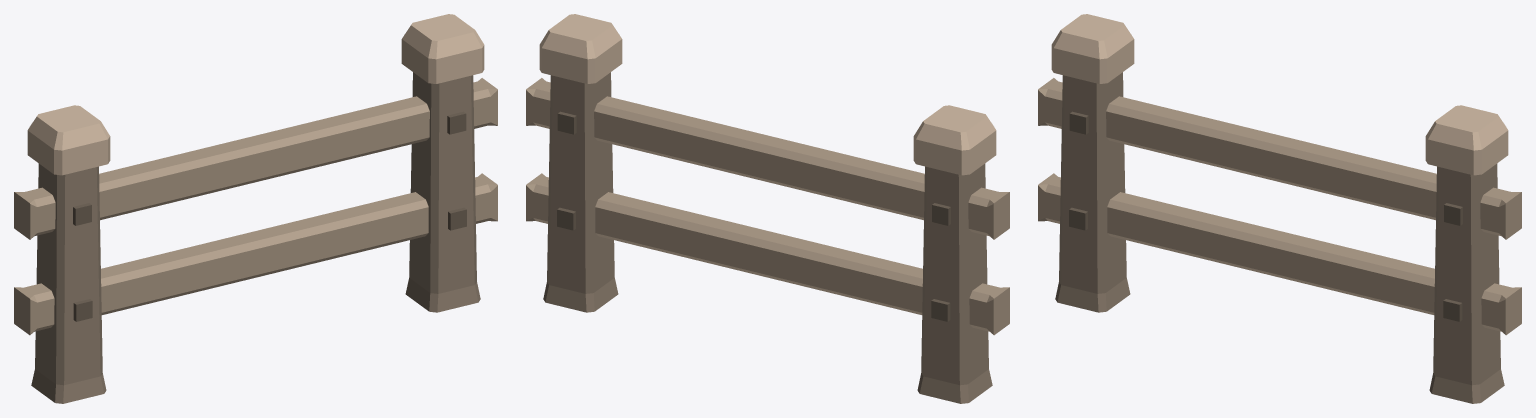
File: wooden-fence-section-5f04b7.glb
The picture shows the model from 3 angles, left to right: view 1: azimuth 30°, elevation 25°; view 2: azimuth 150°, elevation 25°; view 3: azimuth 330°, elevation 25°; orthographic projection.
Parts seen in each view (by area): view 1: fence; view 2: fence; view 3: fence.
Part boxes in pixels (box(x1,y1,x2,y2)): fence: box(14, 14, 497, 403); fence: box(526, 14, 1009, 403); fence: box(1038, 14, 1521, 403).
Bounding box in the file's own units: 2 × 1.1 × 0.24.
